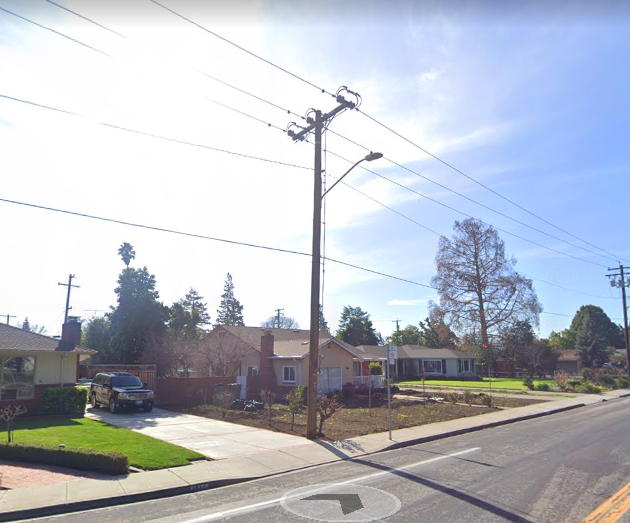utility_pole: (276, 86, 358, 154)
